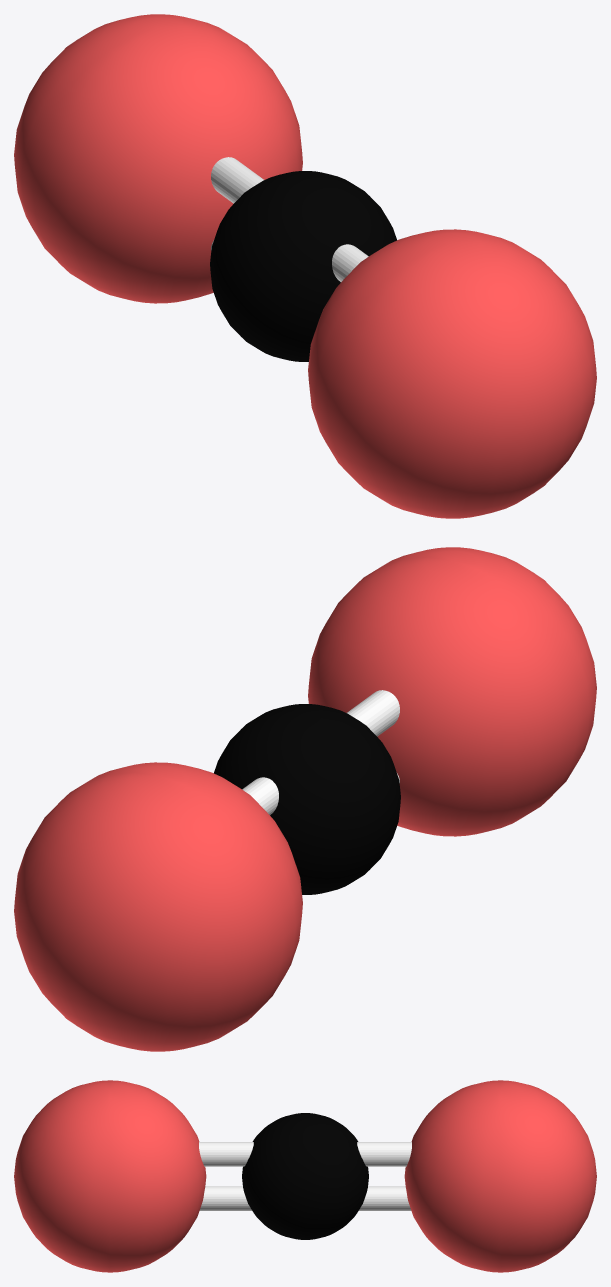
3 views of the same model, one above another, from view 1: azimuth 30°, elevation 25°; view 2: azimuth 150°, elevation 25°; view 3: azimuth 270°, elevation 25° (orthographic). The views are drawn at different scales.
Parts seen in each view (by area): view 1: 실린더.003; view 2: 실린더.003; view 3: 실린더.003.
Boxes of the visible parts, x1,y1,x2,y2 form: 실린더.003: (14,14,596,518); 실린더.003: (14,547,596,1051); 실린더.003: (14,1080,596,1272).
Bounding box in the file's own units: 197 × 197 × 597.
